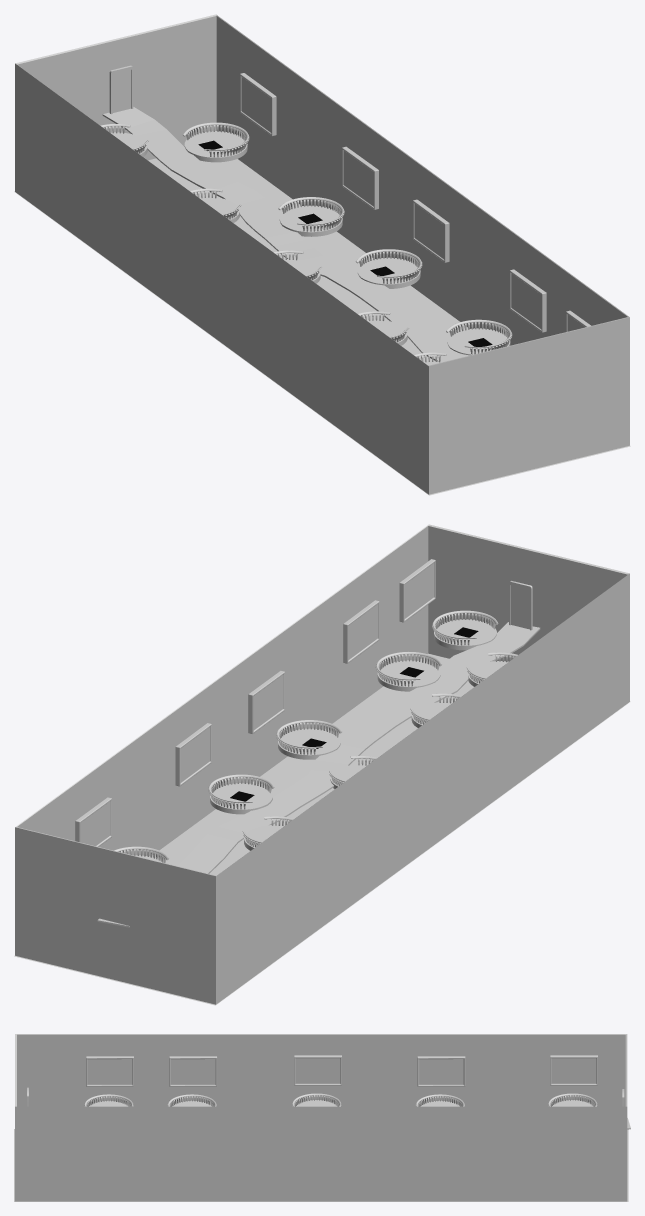
Rendered from Level_2(shematic).fbx.
3 views of the same model, one above another, from view 1: azimuth 30°, elevation 25°; view 2: azimuth 150°, elevation 25°; view 3: azimuth 270°, elevation 25° (orthographic). The views are drawn at different scales.
Parts seen in each view (by area): view 1: Room_lvl4, doroga, plasmant_lvl4', plasmant_lvl4'.003, plasmant_lvl4'.005, plasmant_lvl4'.007, telek.007, telek.003, telek.005, telek, Door.001, plasmant_lvl4'.006 (+1 smaller); view 2: Room_lvl4, doroga, plasmant_lvl4'.003, plasmant_lvl4'.005, plasmant_lvl4'.009, plasmant_lvl4'.007, telek.003, telek.007, telek.005, telek.009, telek, Door (+3 smaller); view 3: Room_lvl4, telek.002, telek.006, telek.001, telek.004, telek.008, plasmant_lvl4'.001, plasmant_lvl4'.004, plasmant_lvl4'.008, plasmant_lvl4'.002, plasmant_lvl4'.006.
Boxes of the visible parts, left/top/right/bottom form: Room_lvl4: left=14, top=14, right=630, bottom=495; doroga: left=102, top=107, right=469, bottom=361; plasmant_lvl4': left=183, top=122, right=249, bottom=162; plasmant_lvl4'.003: left=278, top=197, right=344, bottom=236; plasmant_lvl4'.005: left=355, top=249, right=422, bottom=288; plasmant_lvl4'.007: left=446, top=319, right=512, bottom=355; telek.007: left=509, top=269, right=546, bottom=332; telek.003: left=342, top=146, right=378, bottom=209; telek.005: left=413, top=199, right=449, bottom=262; telek: left=240, top=73, right=276, bottom=136; Door.001: left=112, top=69, right=131, bottom=112; plasmant_lvl4'.006: left=358, top=311, right=408, bottom=345; Room_lvl4: left=14, top=524, right=630, bottom=1005; doroga: left=97, top=622, right=540, bottom=927; plasmant_lvl4'.003: left=208, top=774, right=274, bottom=814; plasmant_lvl4'.005: left=276, top=720, right=341, bottom=759; plasmant_lvl4'.009: left=432, top=610, right=498, bottom=650; plasmant_lvl4'.007: left=375, top=651, right=441, bottom=691; telek.003: left=175, top=723, right=211, bottom=786; telek.007: left=343, top=600, right=379, bottom=663; telek.005: left=248, top=670, right=284, bottom=733; telek.009: left=399, top=559, right=435, bottom=622; telek: left=75, top=797, right=111, bottom=846; Door: left=511, top=585, right=529, bottom=629; Room_lvl4: left=14, top=1034, right=628, bottom=1201; telek.002: left=417, top=1056, right=465, bottom=1086; telek.006: left=169, top=1056, right=217, bottom=1086; telek.001: left=550, top=1055, right=597, bottom=1085; telek.004: left=294, top=1055, right=341, bottom=1085; telek.008: left=86, top=1056, right=133, bottom=1086; plasmant_lvl4'.001: left=548, top=1093, right=597, bottom=1106; plasmant_lvl4'.004: left=292, top=1093, right=341, bottom=1106; plasmant_lvl4'.008: left=84, top=1094, right=133, bottom=1106; plasmant_lvl4'.002: left=415, top=1094, right=464, bottom=1106; plasmant_lvl4'.006: left=167, top=1094, right=216, bottom=1106.
Size of the model in its own units: 830 by 506 by 2971.
